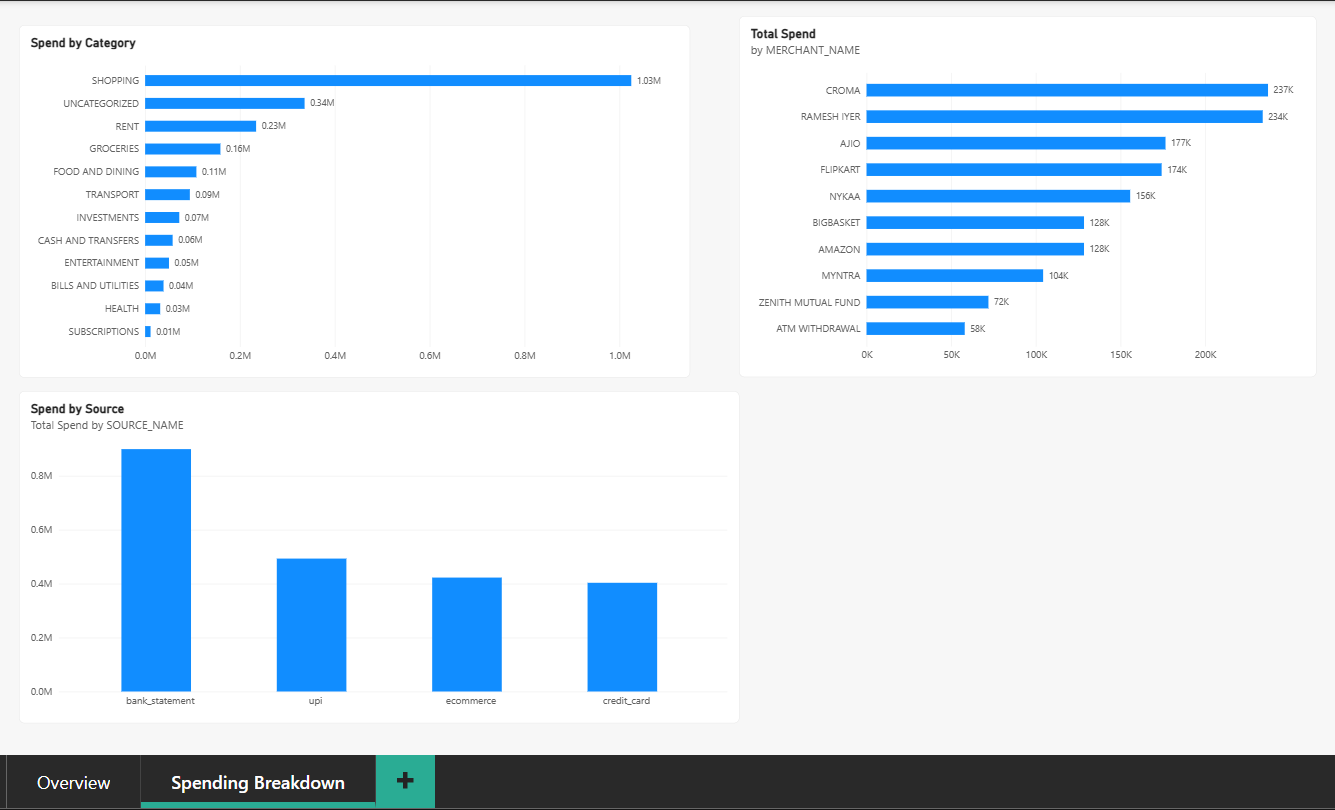

This screenshot's page, from the dashboard's own definition file:
{"tool":"powerbi","page":{"name":"Spending Breakdown","canvas":[1920,1080],"ordinal":1},"visuals":[{"type":"clusteredBarChart","title":"Spend by Category","fields":{"Category":["DIM_CATEGORY.CATEGORY"],"Y":["_Measures.Total Spend"]},"box":[29.3,34.2,961.3,505],"z":0},{"type":"clusteredBarChart","fields":{"Category":["DIM_MERCHANT.MERCHANT_NAME"],"Y":["_Measures.Total Spend"]},"box":[1061.3,22,827.1,517.2],"z":1000},{"type":"clusteredColumnChart","title":"Spend by Source","fields":{"Category":["DIM_SOURCE.SOURCE_NAME"],"Y":["_Measures.Total Spend"]},"box":[29.3,558.7,1032,475.8],"z":2000}]}

Visuals, with their boxes on the page's 1920x1080 design canvas (x1, y1, x2, y2). These are canvas units, not pixel positions in the 1335x810 screenshot, which may show the page scaled, cropped or inside an application window:
"Spend by Category" clusteredBarChart: [x1=29, y1=34, x2=991, y2=539]
clusteredBarChart - DIM_MERCHANT.MERCHANT_NAME x _Measures.Total Spend: [x1=1061, y1=22, x2=1888, y2=539]
"Spend by Source" clusteredColumnChart: [x1=29, y1=559, x2=1061, y2=1034]
